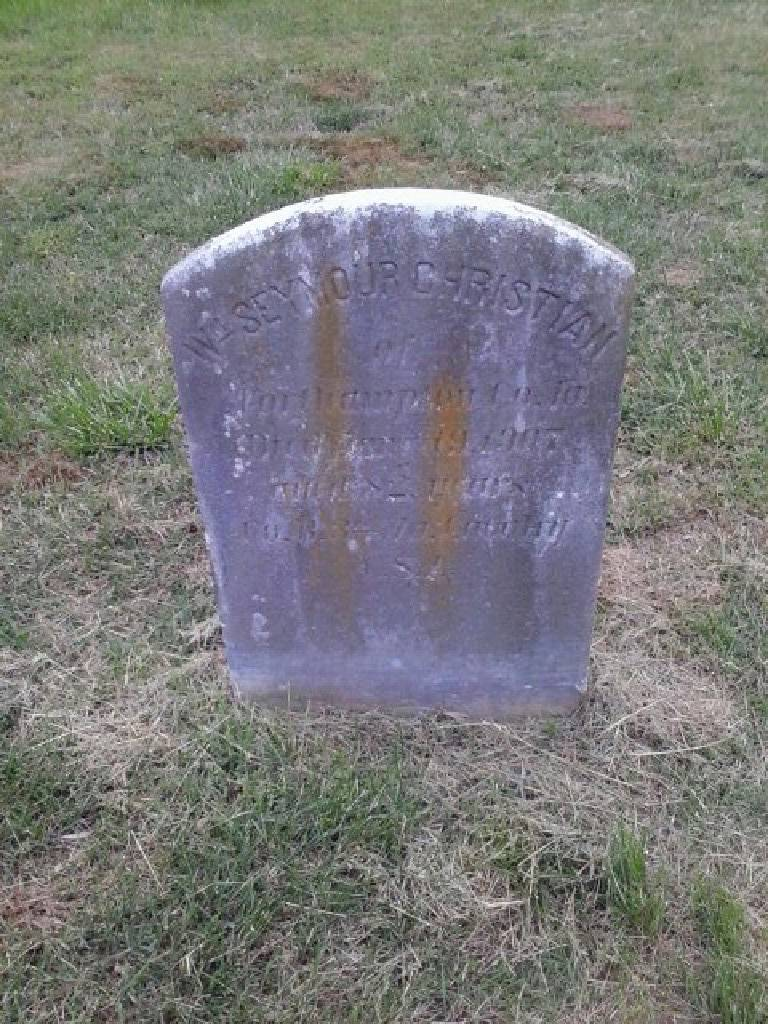upright: (151, 185, 631, 699)
